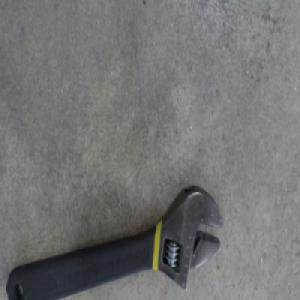AdjustableWrench: (6, 185, 226, 298)
